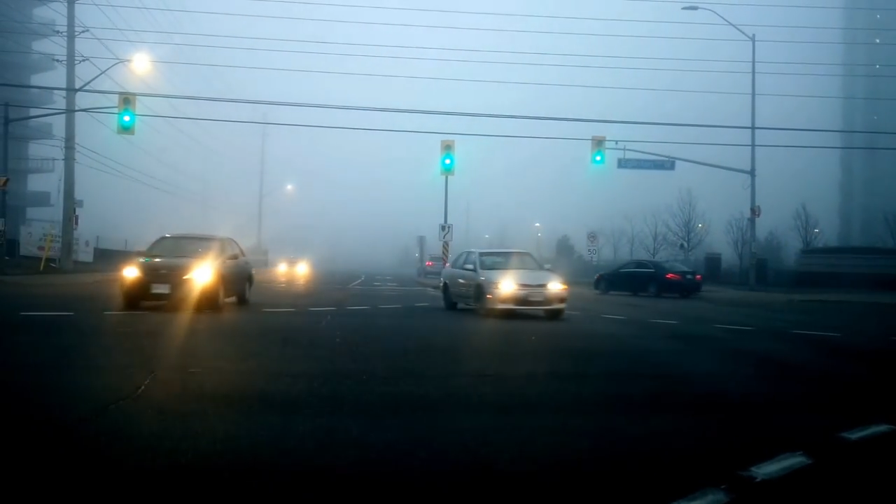car: (116, 232, 255, 312), (441, 246, 570, 318), (593, 256, 704, 300), (415, 251, 450, 278), (280, 254, 306, 276)
